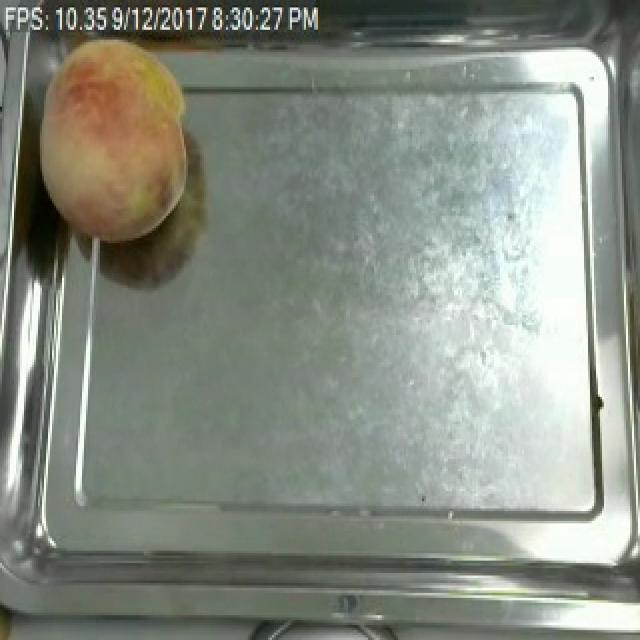Fruit: (22, 27, 196, 251)
